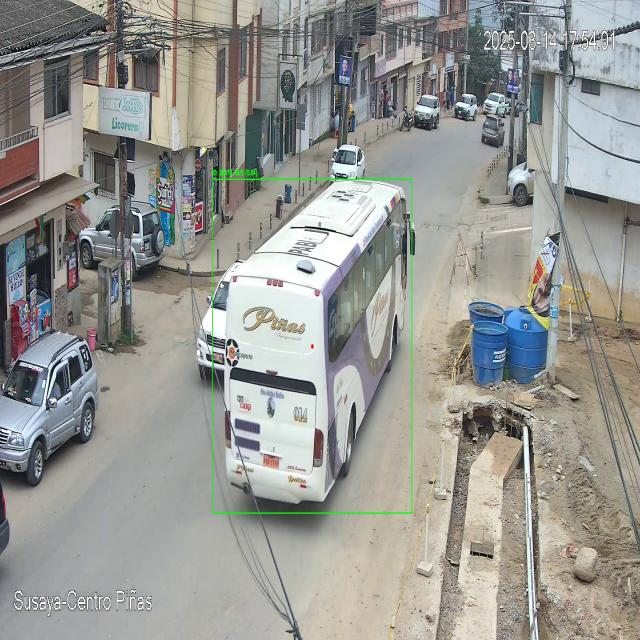BUS: (224, 180, 412, 506)
